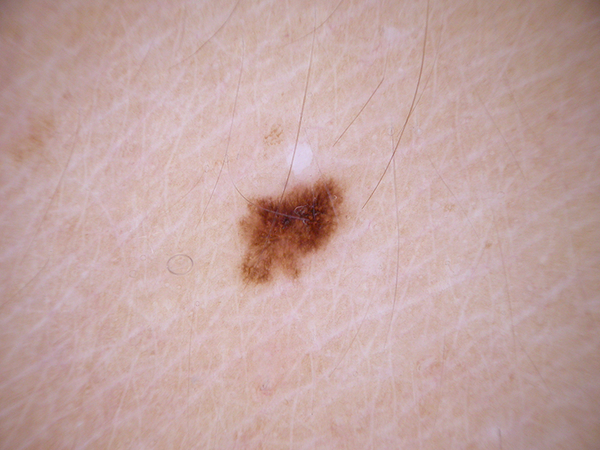Detected Lesion: (229, 169, 357, 293)
